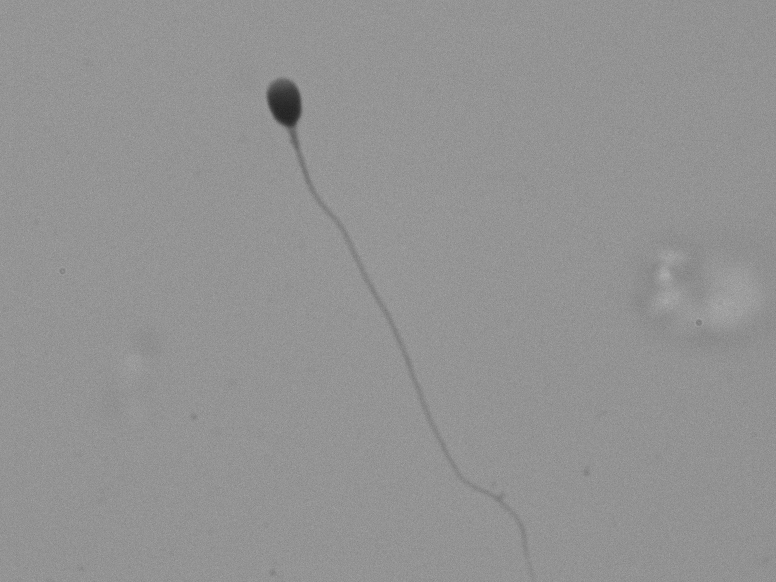Normal: (261, 53, 596, 568)
